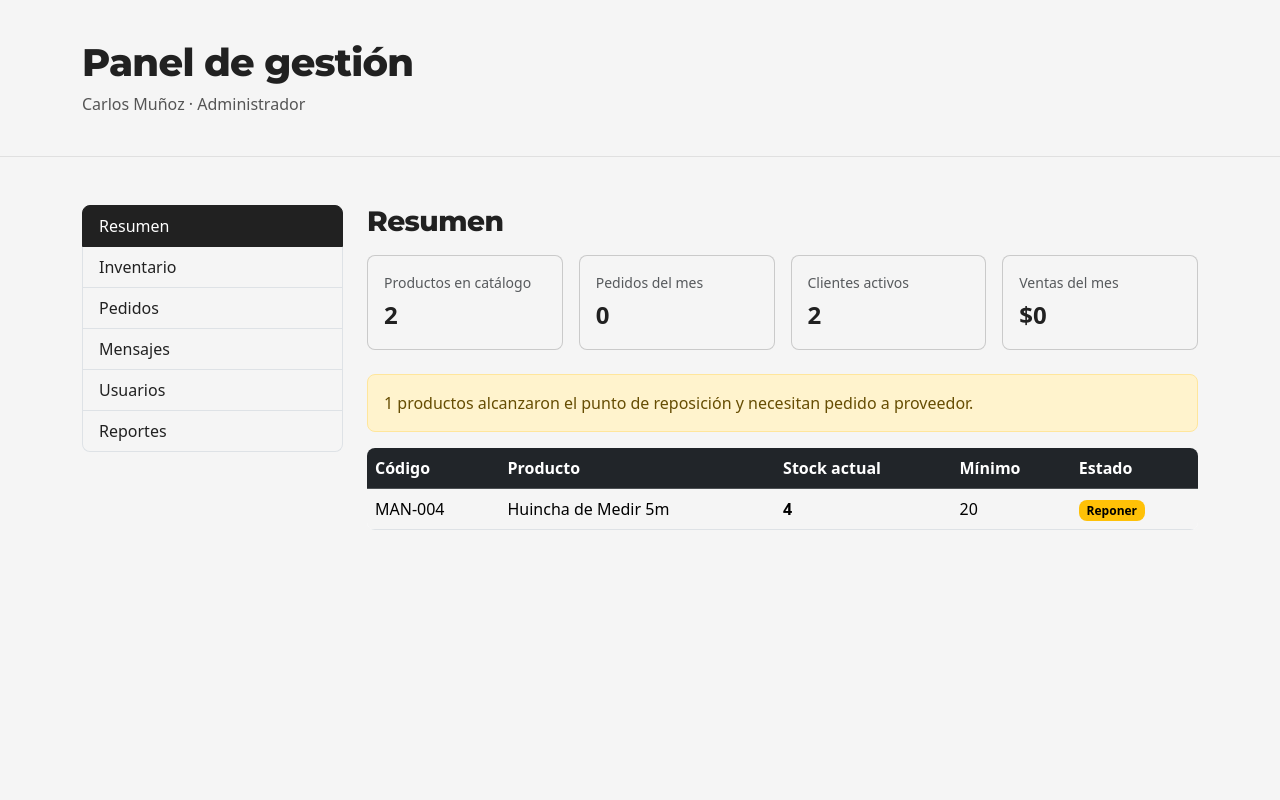
it: Panel › asigna el cupo de credito al contratista
The width and height of the screenshot is (1280, 800).
Check: the heading "Resumen" is shown, box [367,204,503,238]
Click the button "Usuarios" at (132, 390), box [82,370,343,411]
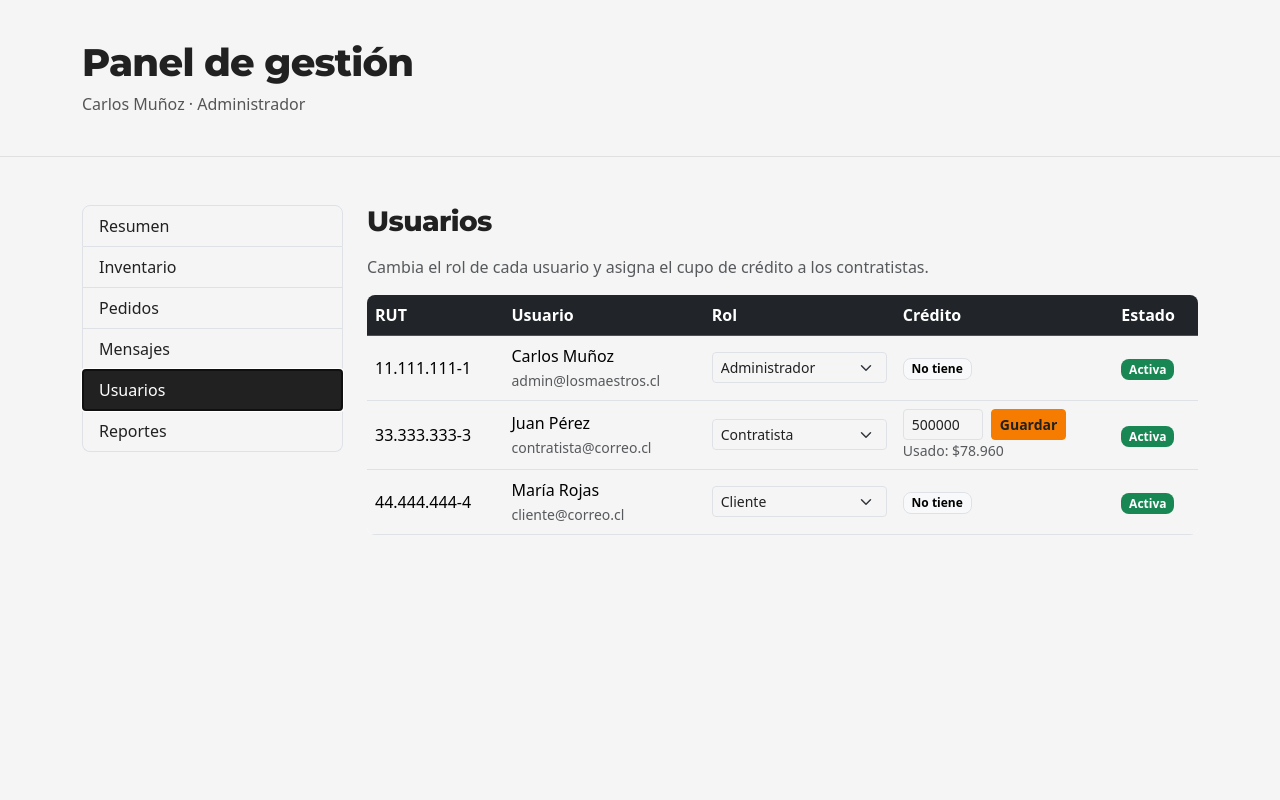
Replace the text in the number field named "Cupo de Juan Pérez" with "800000" at (943, 424), box [903,409,983,440]
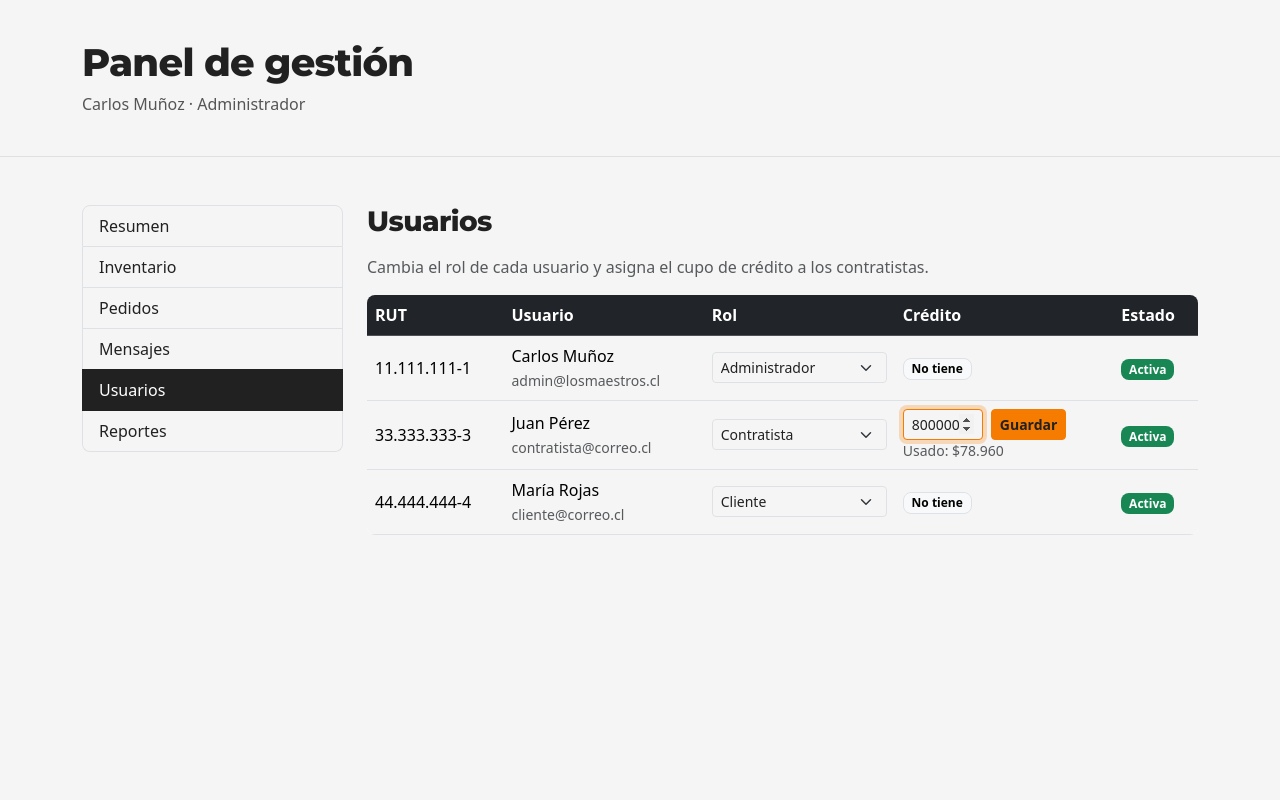
Click the button "Guardar" at (1029, 424), box [991,409,1066,440]
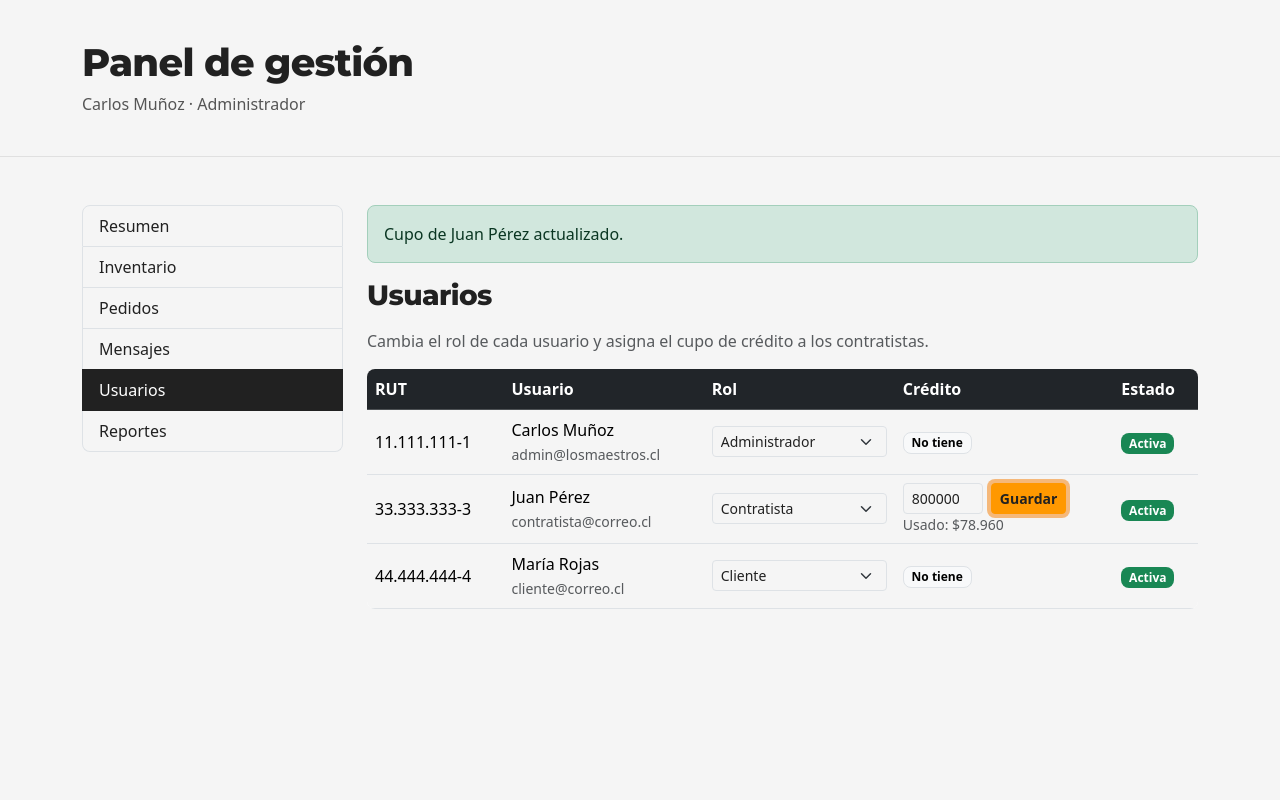
Check: the text "Cupo de Juan Pérez actualizado." is shown, box [367,205,1198,263]
